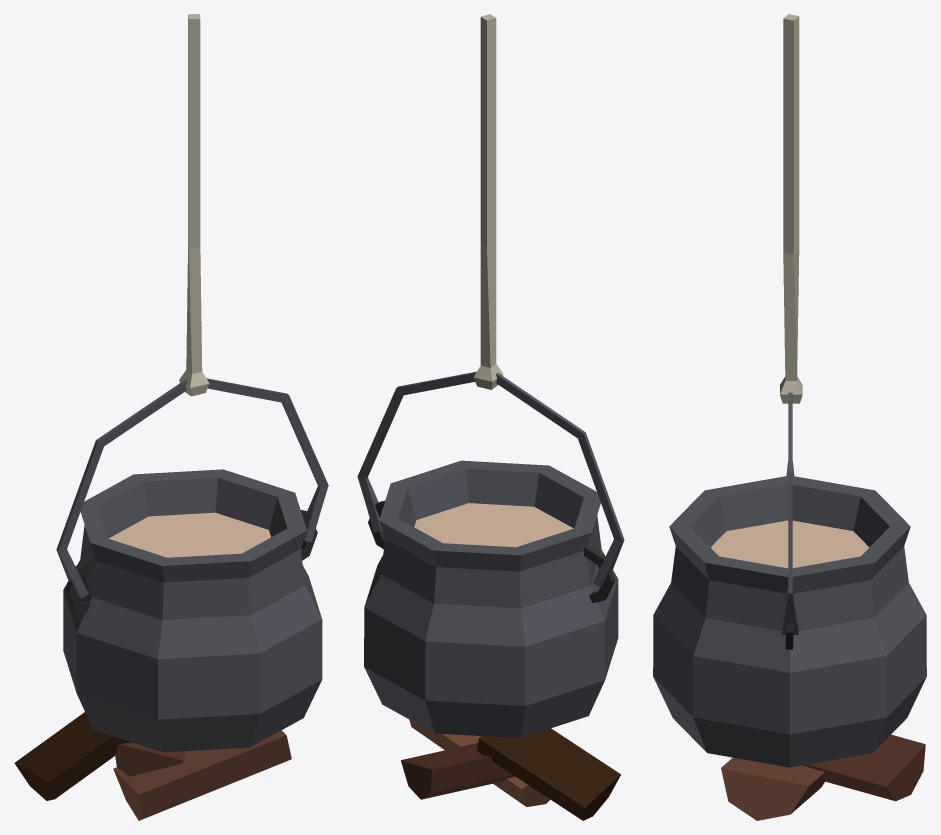
File: Bonfire 2.glb
The picture shows the model from 3 angles, left to right: view 1: azimuth 30°, elevation 25°; view 2: azimuth 150°, elevation 25°; view 3: azimuth 270°, elevation 25°; orthographic projection. The views are drawn at different scales.
Visible parts, largest first — view 1: Bonfire 2; view 2: Bonfire 2; view 3: Bonfire 2.
Part boxes in pixels (<box>): Bonfire 2: <box>14,14,328,820</box>; Bonfire 2: <box>357,14,624,820</box>; Bonfire 2: <box>653,14,926,820</box>.
Size of what is drawn, in the model's own units: 0.6285 by 1.74 by 0.5353.
Materials: 1 (1 with a texture image).
